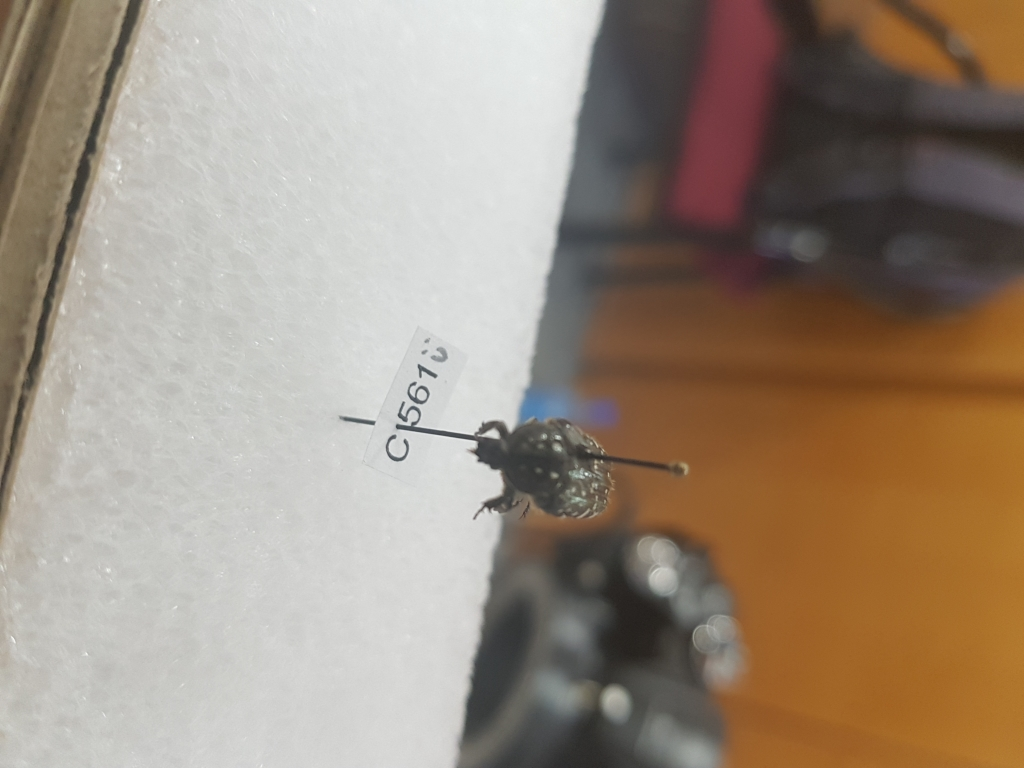Oxythyrea_funesta: (473, 407, 616, 530)
